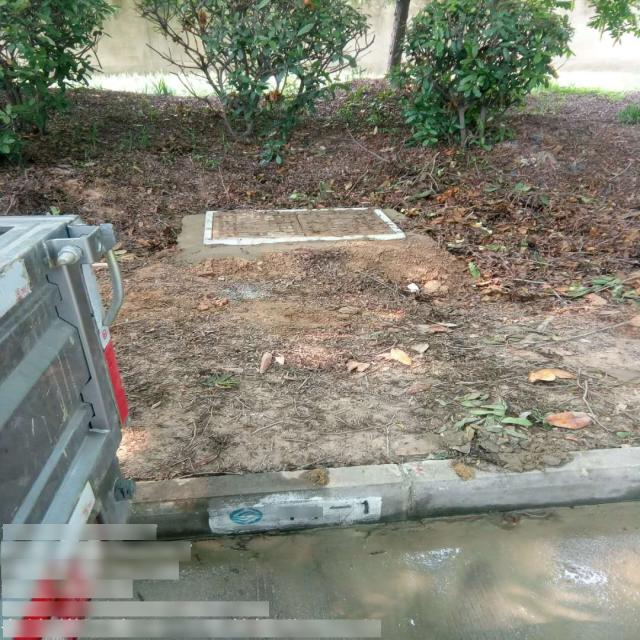Good: (203, 207, 407, 246)
